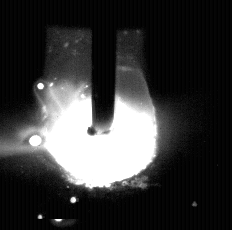arame: (93, 0, 116, 136)
poca: (45, 0, 156, 230)
